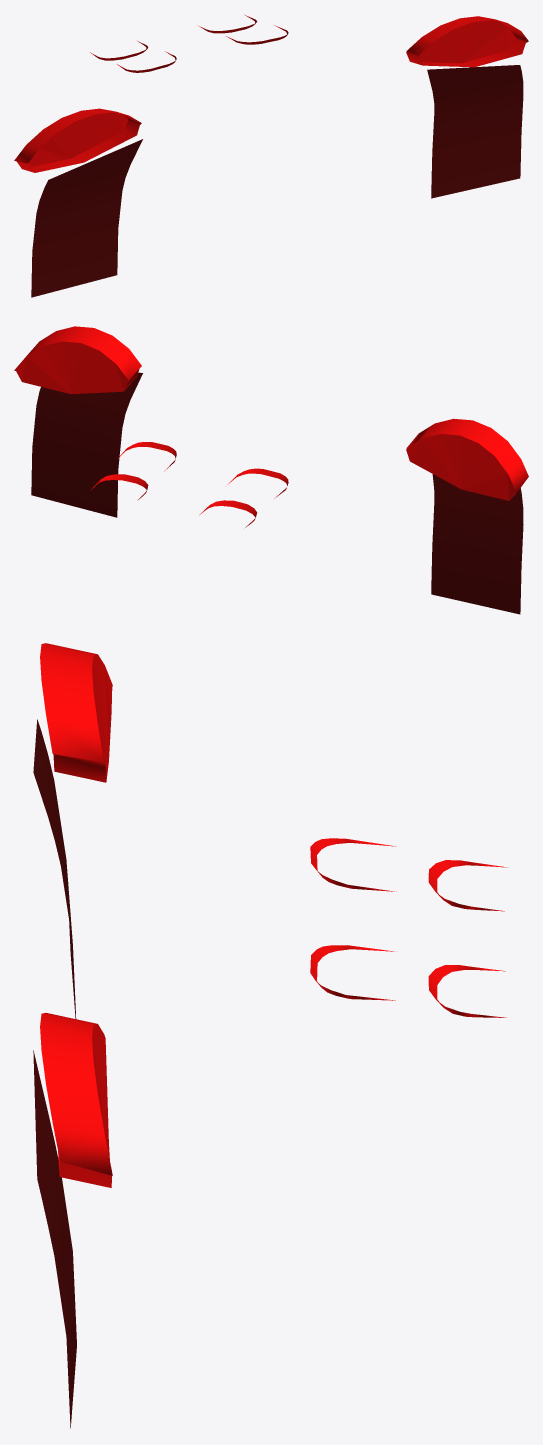
Rendered from Veyron_Roof02_Trim.fbx.
3 renders of one model, top to bottom at view 1: azimuth 30°, elevation 25°; view 2: azimuth 150°, elevation 25°; view 3: azimuth 270°, elevation 25°, orthographic. The views are drawn at different scales.
Visible parts, largest first — view 1: Veyron_Roof02_Trim; view 2: Veyron_Roof02_Trim; view 3: Veyron_Roof02_Trim.
Part boxes in pixels (left/top/right/bottom): Veyron_Roof02_Trim: left=14, top=14, right=528, bottom=297; Veyron_Roof02_Trim: left=14, top=326, right=528, bottom=614; Veyron_Roof02_Trim: left=33, top=643, right=507, bottom=1428.
Size of the model in its own units: 109 by 36.43 by 44.87.
